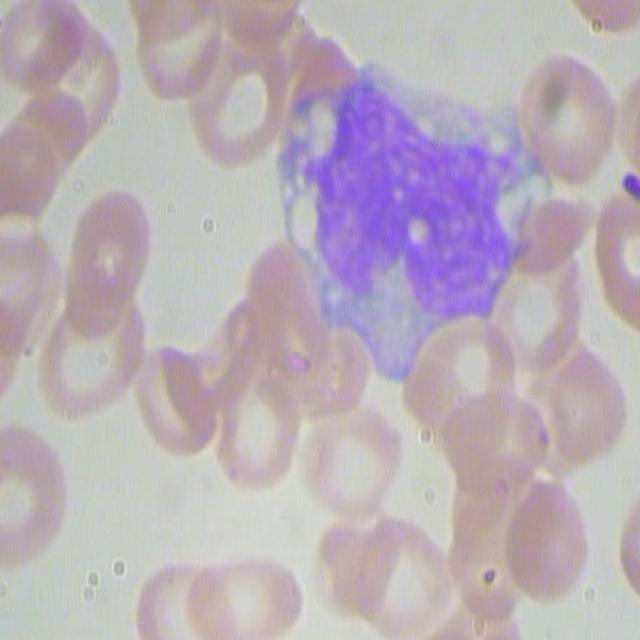RBC: (205, 257, 308, 495), (216, 233, 332, 412), (319, 504, 462, 636), (4, 0, 116, 143), (520, 49, 621, 186), (37, 299, 145, 425), (522, 345, 622, 478), (406, 313, 515, 433), (183, 47, 285, 171), (203, 368, 303, 493), (484, 254, 580, 378), (63, 188, 153, 319), (497, 477, 589, 603), (128, 0, 236, 105), (309, 404, 402, 520), (131, 344, 218, 462), (195, 551, 304, 638), (0, 424, 64, 571), (131, 562, 236, 640), (593, 167, 640, 331), (0, 118, 63, 225), (201, 0, 307, 60), (620, 487, 640, 639), (564, 0, 640, 35)
WBC: (304, 50, 530, 348)
